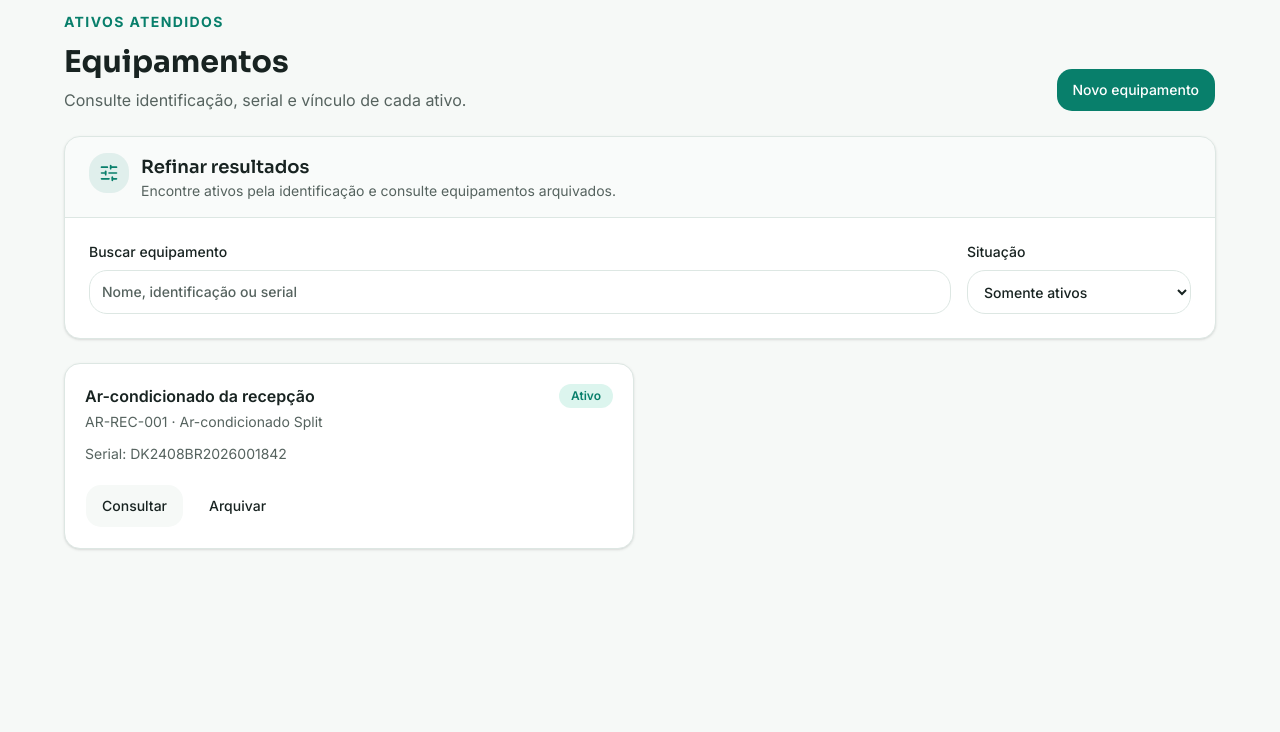
Test: equipment UI › filters equipment immediately without navigation or a clear-filters row
Expected: the heading "Ar-condicionado da recepção" is shown, [85,384,323,408]
In the field with placeholder "Nome, identificação ou serial": [520, 292] box [89,270,951,314], type "AR-REC"
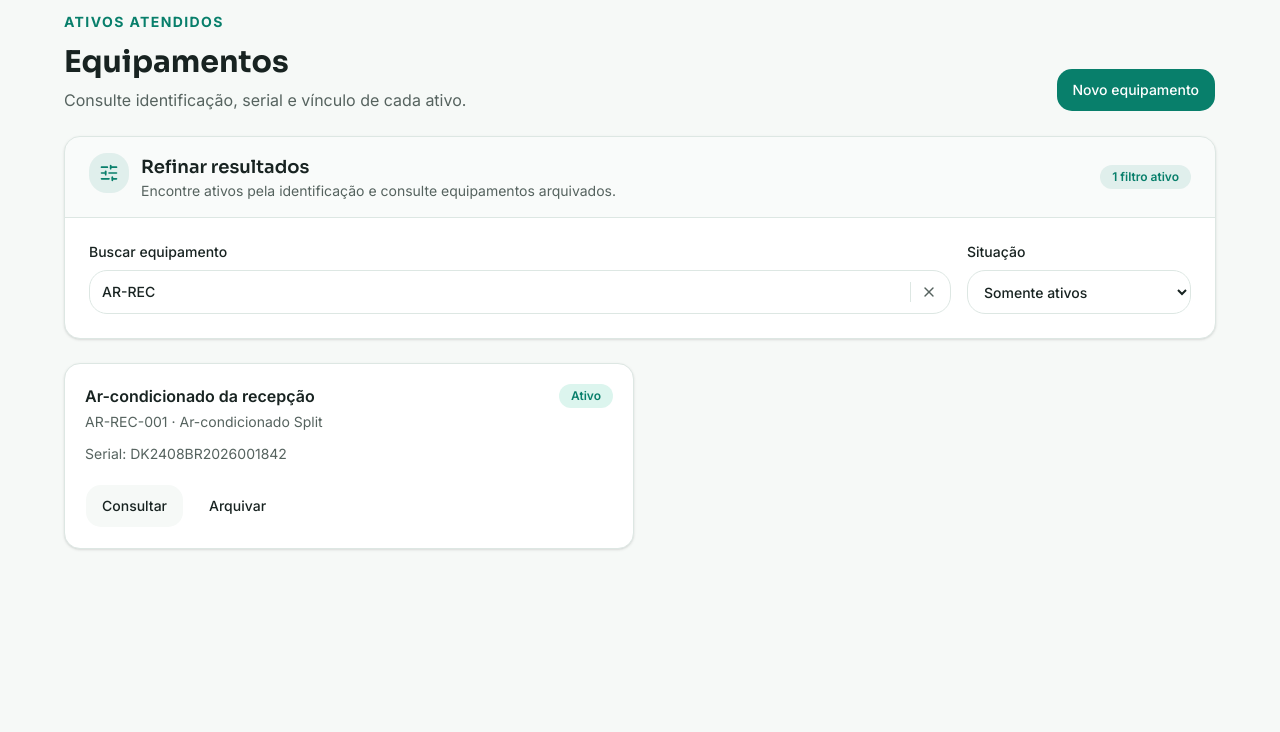
Now the button named "Limpar busca" is shown
Click the button named "Limpar busca": [929, 292] box [911,274,947,310]
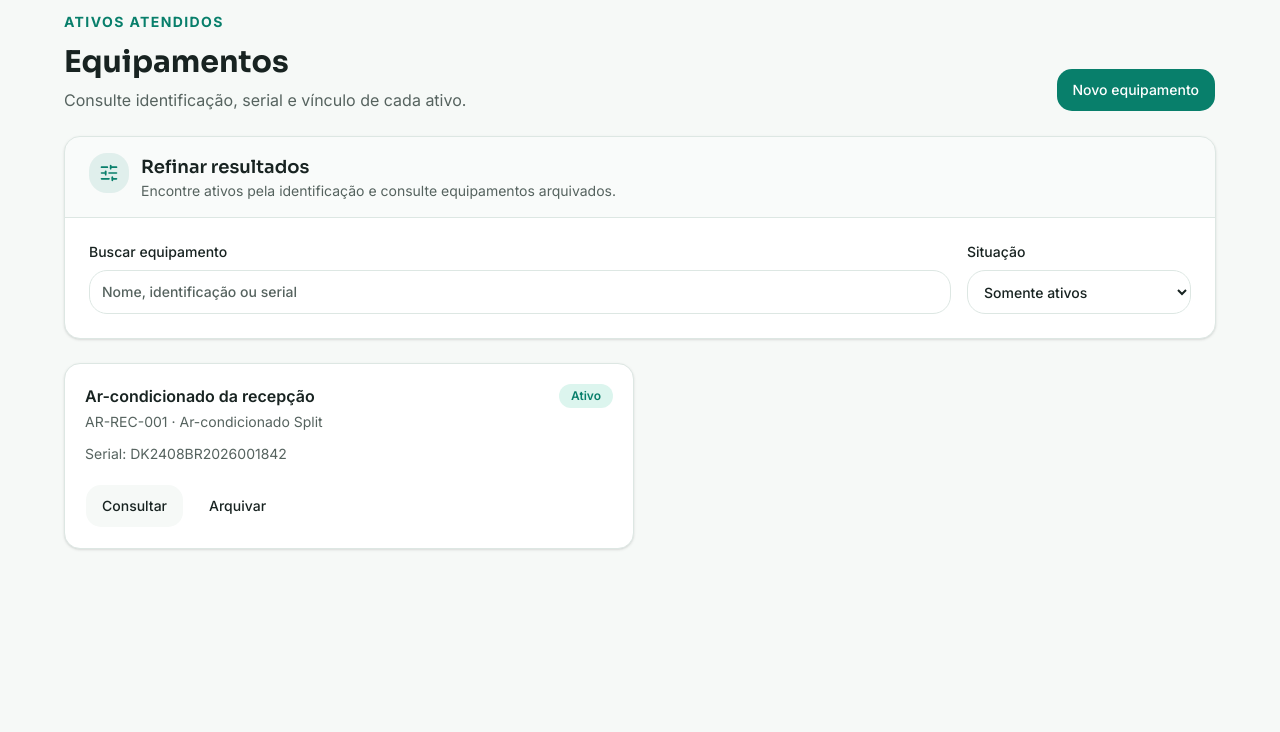
Now the field with placeholder "Nome, identificação ou serial" is empty, box [89,270,951,314]
Select "Somente arquivados" in the dropdown labelled "Situação": [1079, 292] box [967,270,1191,314]
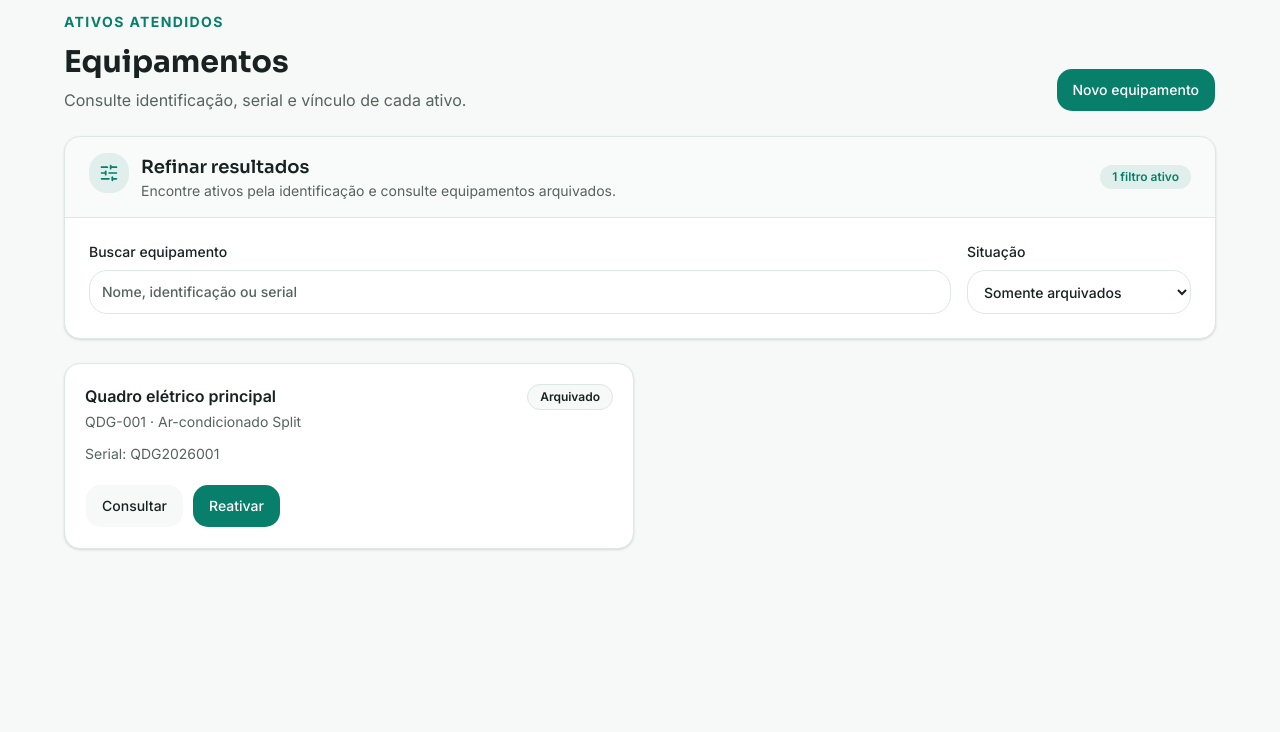
Now the heading "Quadro elétrico principal" is shown, box [85,384,301,408]
